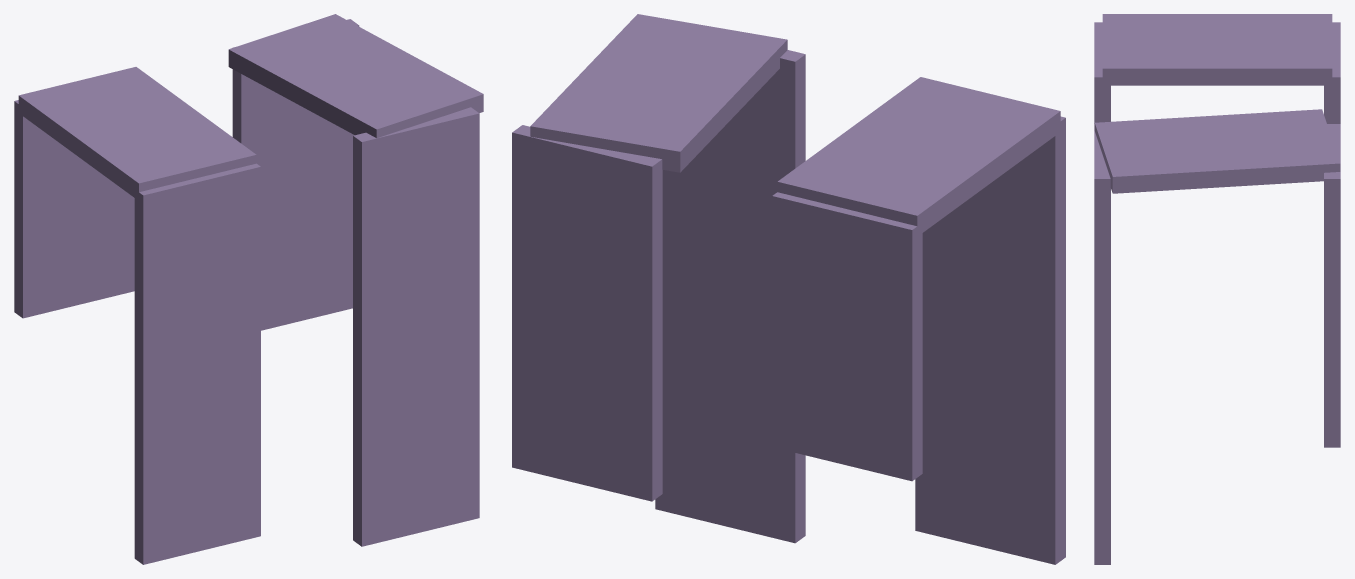
Rendered from socks-draped-mint.glb.
The picture shows the model from 3 angles, left to right: view 1: azimuth 30°, elevation 25°; view 2: azimuth 150°, elevation 25°; view 3: azimuth 270°, elevation 25°; orthographic projection. The views are drawn at different scales.
Visible parts, largest first — view 1: accent-lilac; view 2: accent-lilac; view 3: accent-lilac.
Part boxes in pixels (<box>): accent-lilac: <box>14,14,483,564</box>; accent-lilac: <box>512,14,1065,564</box>; accent-lilac: <box>1094,14,1340,564</box>.
Size of the model in its own units: 0.2083 by 0.235 by 0.133.
